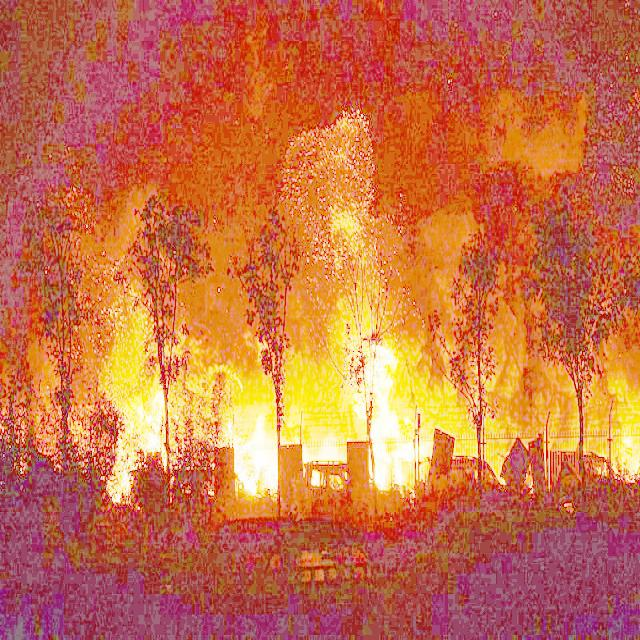api: (352, 338, 429, 493), (107, 384, 181, 508), (228, 424, 292, 502)
asap: (383, 229, 490, 466), (493, 263, 587, 450), (255, 293, 360, 424), (101, 196, 155, 380)
